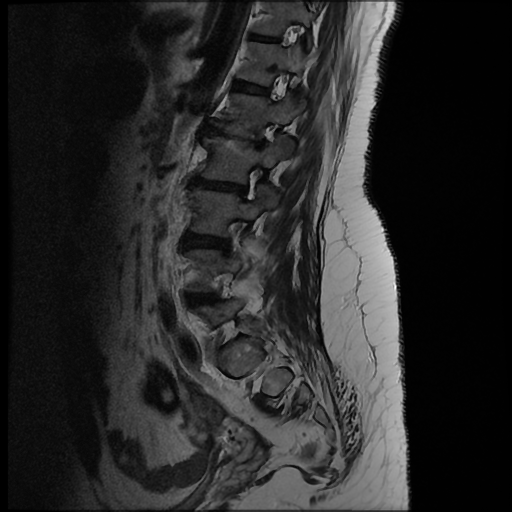LFS0: (231, 158, 274, 209)
